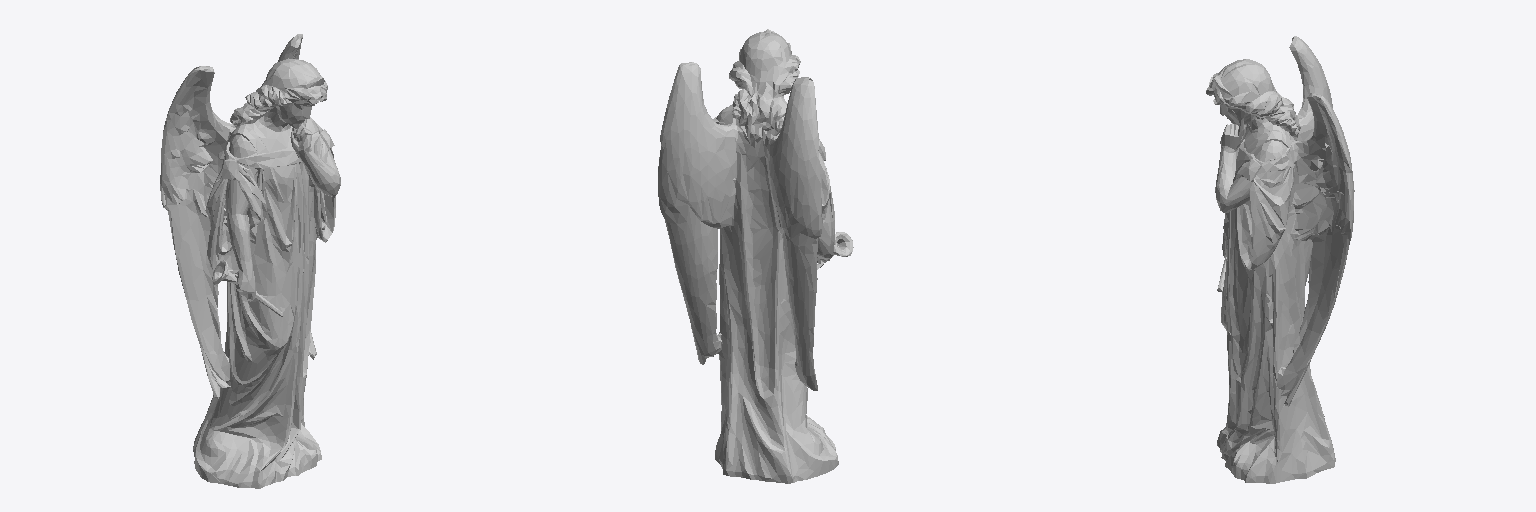
Rendered from angel.obj.
3 renders of one model, left to right at view 1: azimuth 30°, elevation 25°; view 2: azimuth 150°, elevation 25°; view 3: azimuth 270°, elevation 25°, orthographic.
Parts seen in each view (by area): view 1: BG1_01_low; view 2: BG1_01_low; view 3: BG1_01_low.
Part boxes in pixels (left/top/right/bottom): BG1_01_low: left=160, top=34, right=340, bottom=488; BG1_01_low: left=658, top=29, right=853, bottom=483; BG1_01_low: left=1206, top=36, right=1354, bottom=483.
Bounding box in the file's own units: 1.29 × 3.35 × 1.11.